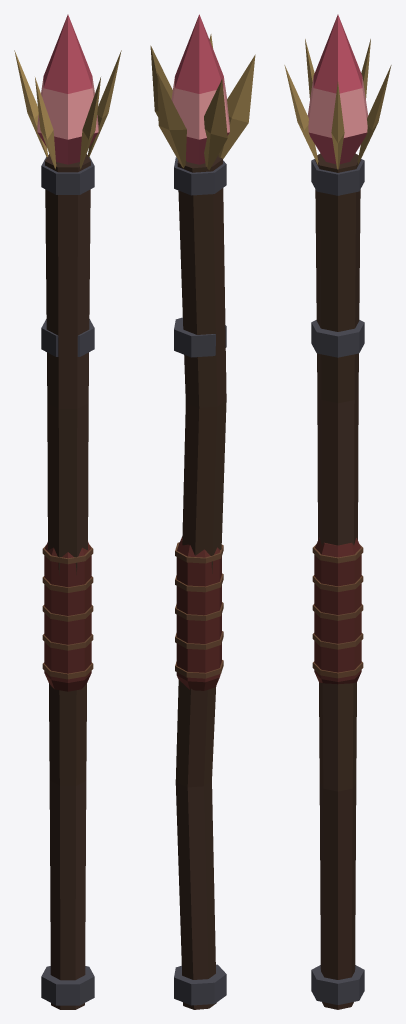
File: weapon_staff_ember.glb
3 views of the same model, side by side, from view 1: azimuth 90°, elevation 25°; view 2: azimuth 150°, elevation 25°; view 3: azimuth 270°, elevation 25° (orthographic).
Visible parts, largest first — view 1: weapon_staff_ember; view 2: weapon_staff_ember; view 3: weapon_staff_ember.
Part boxes in pixels (x1,y1,x2,y2): weapon_staff_ember: (14, 14, 121, 1009); weapon_staff_ember: (150, 14, 255, 1009); weapon_staff_ember: (284, 14, 391, 1009).
Size of the model in its own units: 0.217 by 2.32 by 0.2284.
